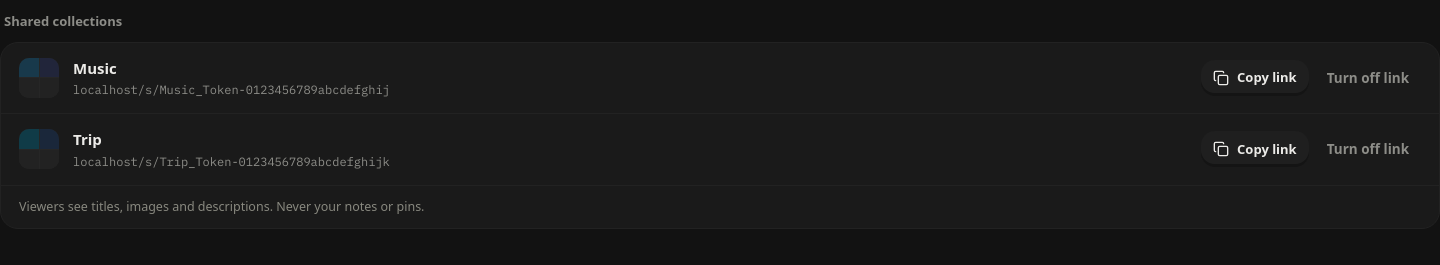
Test case: SharedCollectionsSection › drops a collection from the list once its link is turned off with a second tap
Click the 2nd button "Turn off link" at (1368, 149), box 1315,131 -> 1421,167
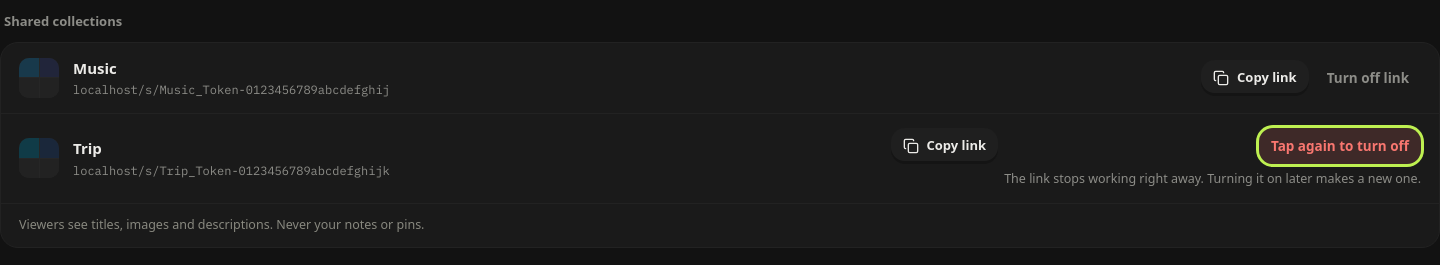
Click the button "Tap again to turn off" at (1340, 146), box 1259,128 -> 1421,164
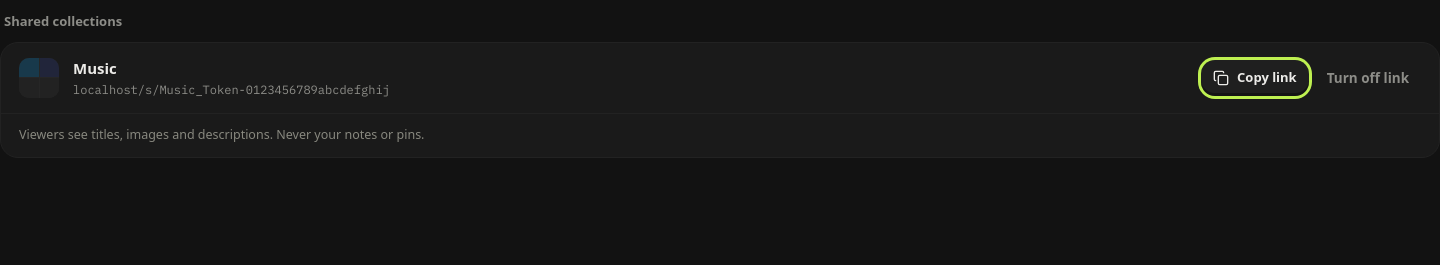
Check: the link "Music" is shown, box 73,56 -> 117,79
Check: the link "Trip" is gone
